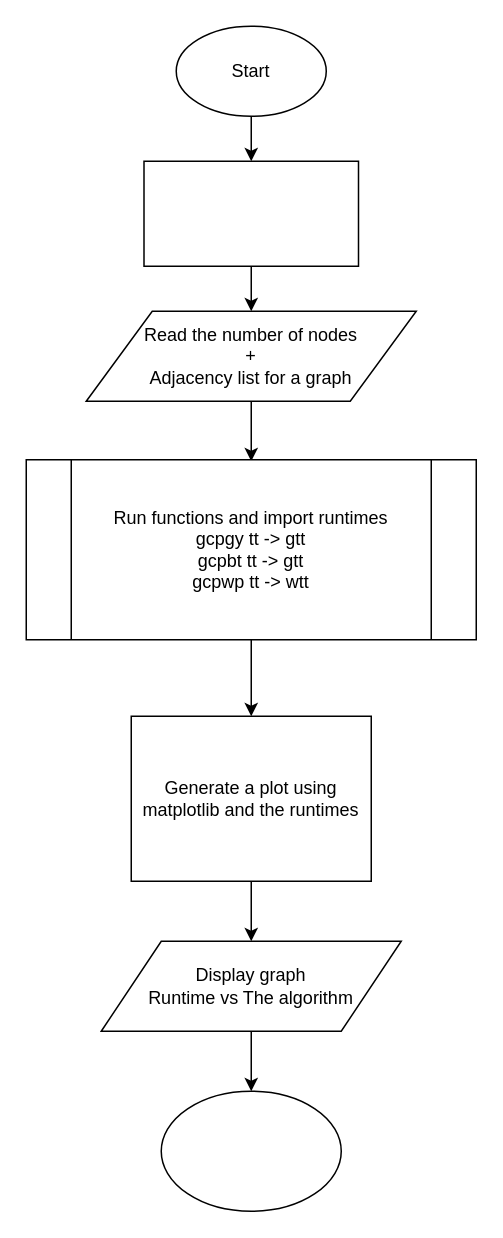
Image size: 503x1238. Some labels were removed from this diagram. The shapes that lost their labels are listed below. From the top down, each one's centre as x and y in pixels, then its label:
At (250,213): "Import matplotlib.py".
At (250,1150): "Stop".
